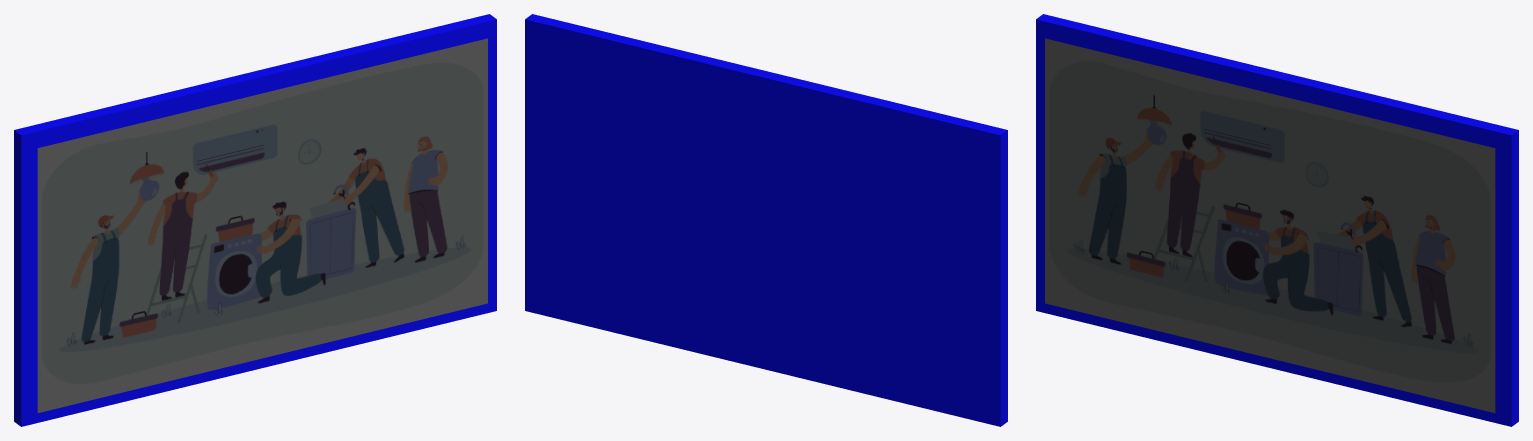
3 renders of one model, left to right at view 1: azimuth 30°, elevation 25°; view 2: azimuth 150°, elevation 25°; view 3: azimuth 330°, elevation 25°, orthographic.
Parts seen in each view (by area): view 1: PhotoPlane, PhotoBorder; view 2: PhotoBorder; view 3: PhotoPlane, PhotoBorder.
Part boxes in pixels (x1,y1,x2,y2): PhotoPlane: (37, 38, 487, 412); PhotoBorder: (14, 14, 496, 426); PhotoBorder: (525, 14, 1007, 426); PhotoPlane: (1045, 38, 1495, 412); PhotoBorder: (1036, 14, 1518, 426).
Bounding box in the file's own units: 18.78 × 11 × 0.75.
2 materials, 1 textured.
